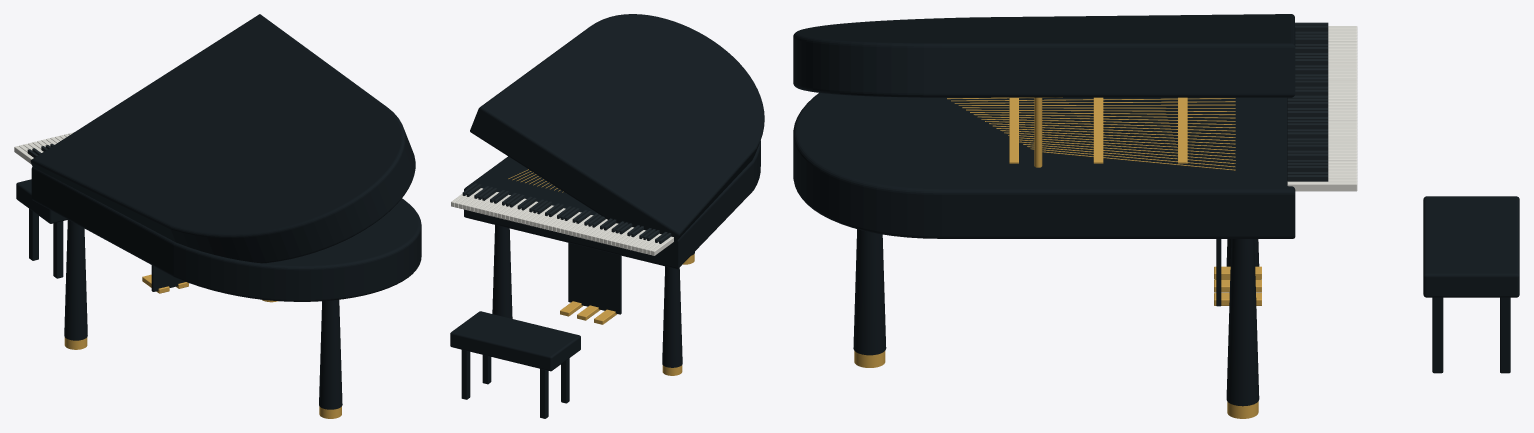
File: piano.glb
3 views of the same model, side by side, from view 1: azimuth 30°, elevation 25°; view 2: azimuth 150°, elevation 25°; view 3: azimuth 270°, elevation 25° (orthographic). The views are drawn at different scales.
Parts seen in each view (by area): view 1: Raised lid, Main assembly, Piano bench; view 2: Raised lid, Main assembly, Piano bench; view 3: Main assembly, Raised lid, Piano bench.
Boxes of the visible parts, x1=… form: Raised lid: x1=30, y1=14, x2=415, y2=263; Main assembly: x1=14, y1=132, x2=421, y2=418; Piano bench: x1=16, y1=179, x2=67, y2=278; Raised lid: x1=470, y1=14, x2=764, y2=241; Main assembly: x1=451, y1=140, x2=760, y2=375; Piano bench: x1=450, y1=311, x2=580, y2=418; Main assembly: x1=793, y1=22, x2=1357, y2=418; Raised lid: x1=793, y1=14, x2=1295, y2=97; Piano bench: x1=1423, y1=196, x2=1519, y2=373.
Bounding box in the file's own units: 1.65 × 1.71 × 3.02.
